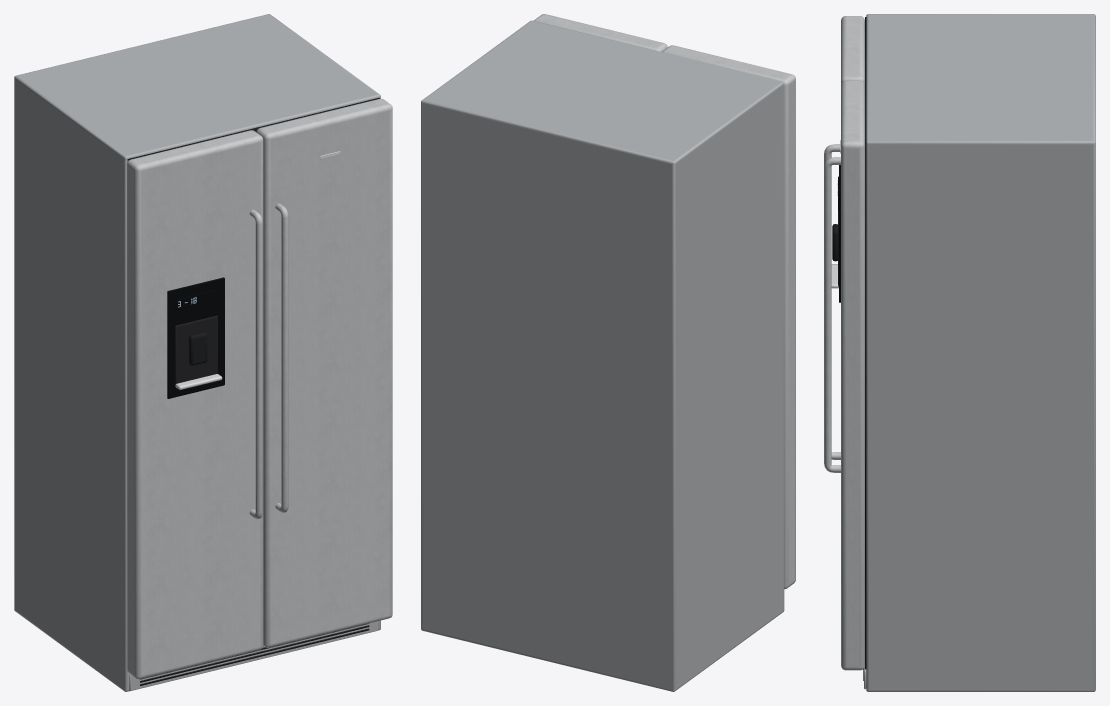
The model's file is frigorifico_americano_inox_90x80.glb.
The picture shows the model from 3 angles, left to right: view 1: azimuth 30°, elevation 25°; view 2: azimuth 150°, elevation 25°; view 3: azimuth 270°, elevation 25°; orthographic projection. The views are drawn at different scales.
Parts seen in each view (by area): view 1: frigorifico_americano_inox_90x80; view 2: frigorifico_americano_inox_90x80; view 3: frigorifico_americano_inox_90x80.
Boxes of the visible parts, x1,y1,x2,y2 form: frigorifico_americano_inox_90x80: [14, 14, 392, 691]; frigorifico_americano_inox_90x80: [421, 14, 795, 691]; frigorifico_americano_inox_90x80: [824, 14, 1095, 691].
Bounding box in the file's own units: 0.9001 × 1.8 × 0.7999.
Materials: 7 (1 with a texture image).
